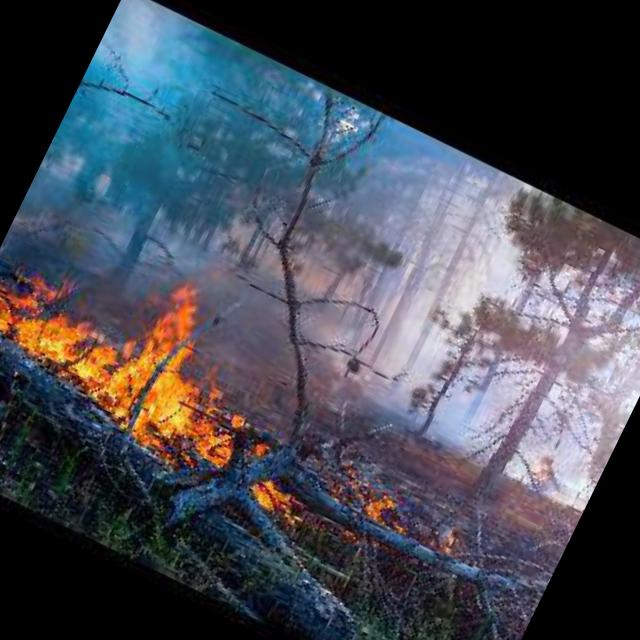fire: (0, 186, 554, 640)
